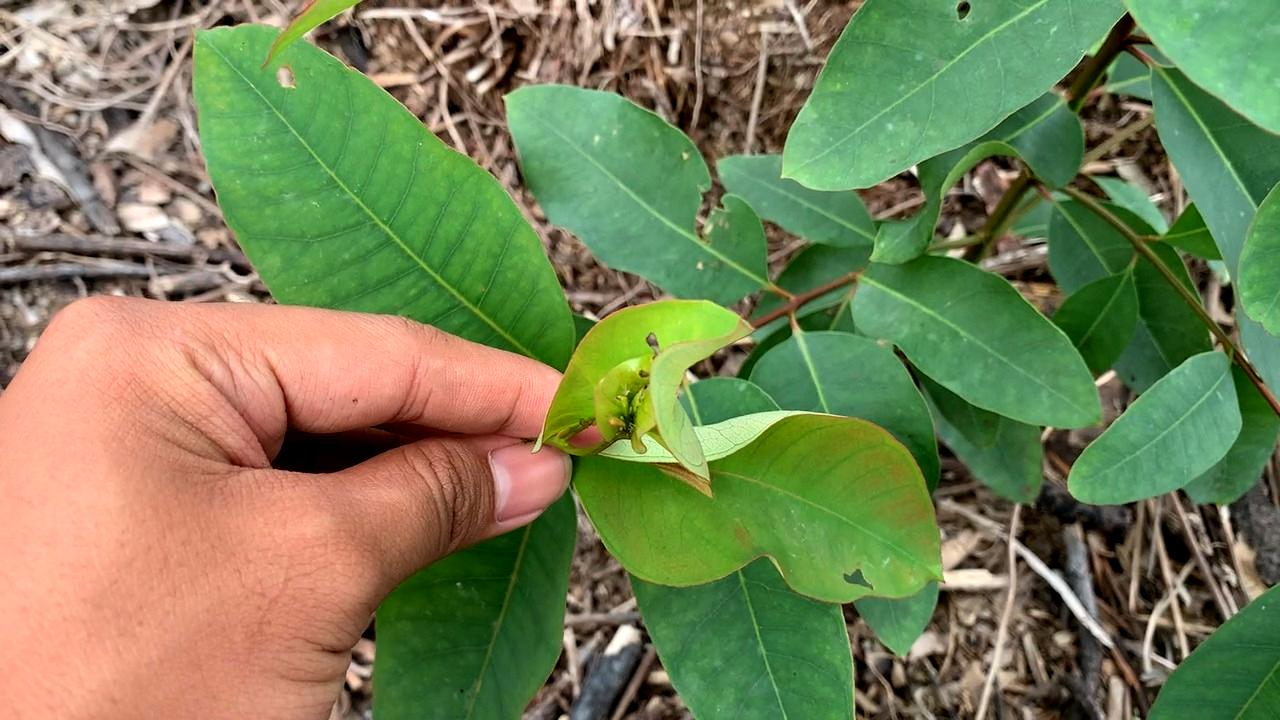Leaf Roller - Leaf: (529, 296, 760, 485)
